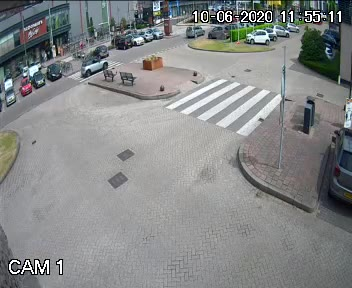car: (76, 54, 109, 74), (183, 24, 203, 40)
